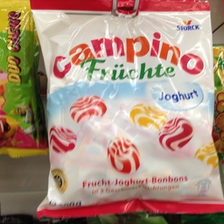candy: (36, 7, 220, 215)
